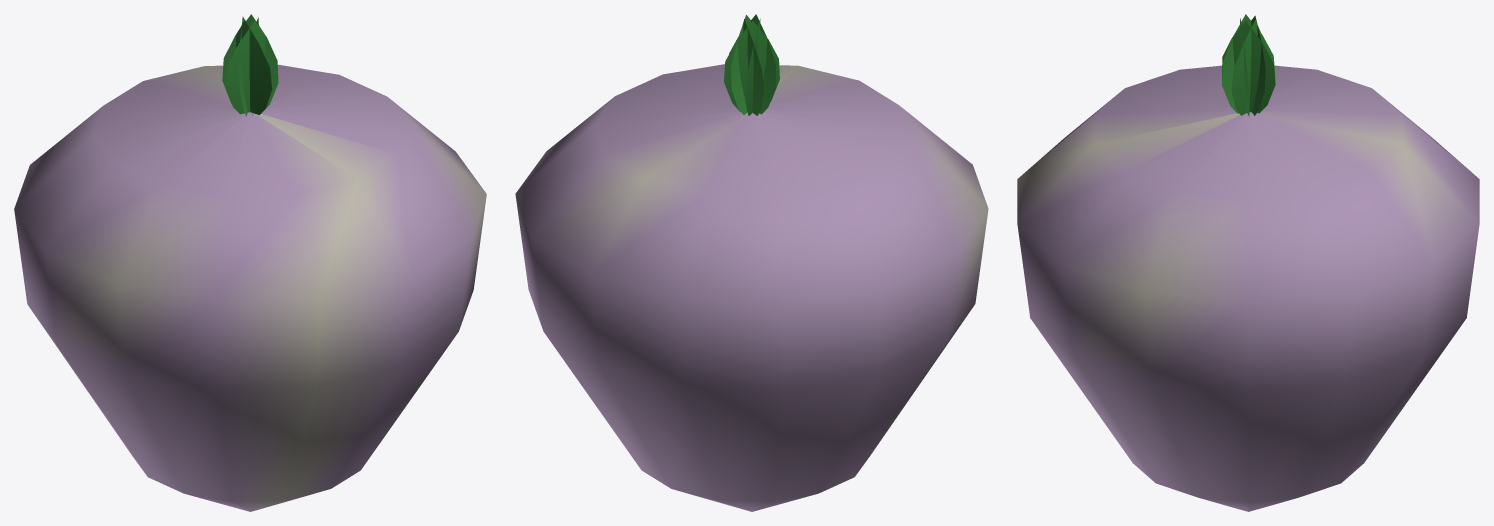
File: fruit-cactus-chilled.gltf
The picture shows the model from 3 angles, left to right: view 1: azimuth 30°, elevation 25°; view 2: azimuth 150°, elevation 25°; view 3: azimuth 270°, elevation 25°; orthographic projection.
Size of the model in its own units: 0.36 by 0.4142 by 0.351.
